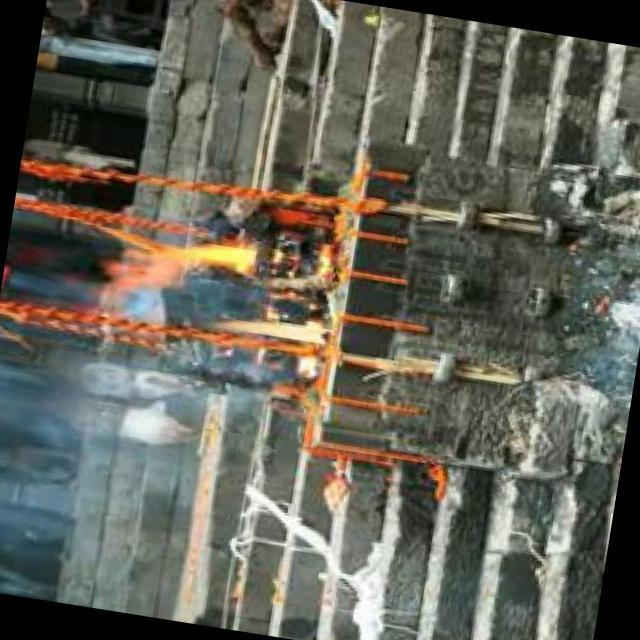Fire: (100, 216, 265, 310), (209, 288, 333, 364)
